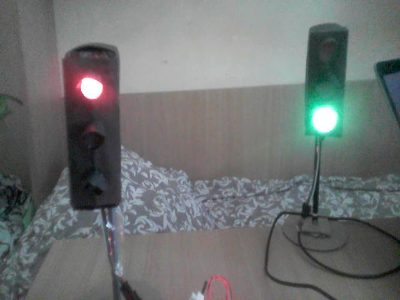trafficlight_green: (306, 31, 344, 133)
trafficlight_red: (66, 56, 118, 208)
